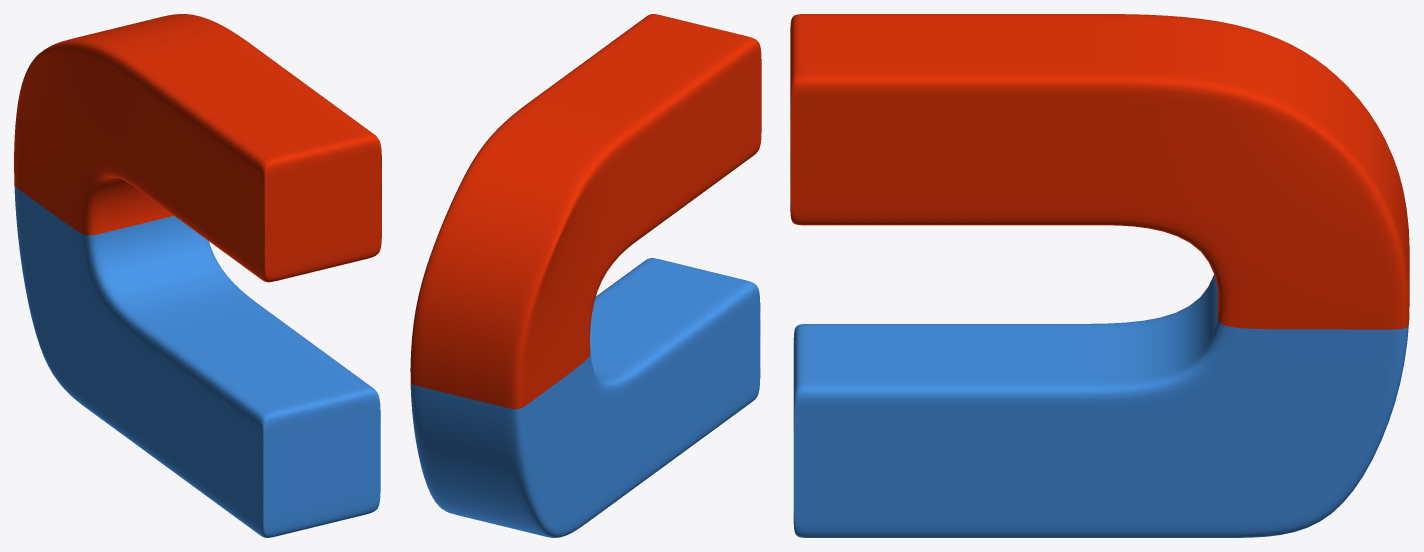
The model's file is mıknatıs.fbx.
The picture shows the model from 3 angles, left to right: view 1: azimuth 30°, elevation 25°; view 2: azimuth 150°, elevation 25°; view 3: azimuth 270°, elevation 25°; orthographic projection. The views are drawn at different scales.
Parts seen in each view (by area): view 1: Cube; view 2: Cube; view 3: Cube.
Part boxes in pixels (x1,y1,x2,y2): Cube: [14, 14, 381, 537]; Cube: [410, 14, 761, 537]; Cube: [790, 14, 1409, 537].
Bounding box in the file's own units: 106 × 309 × 376.
